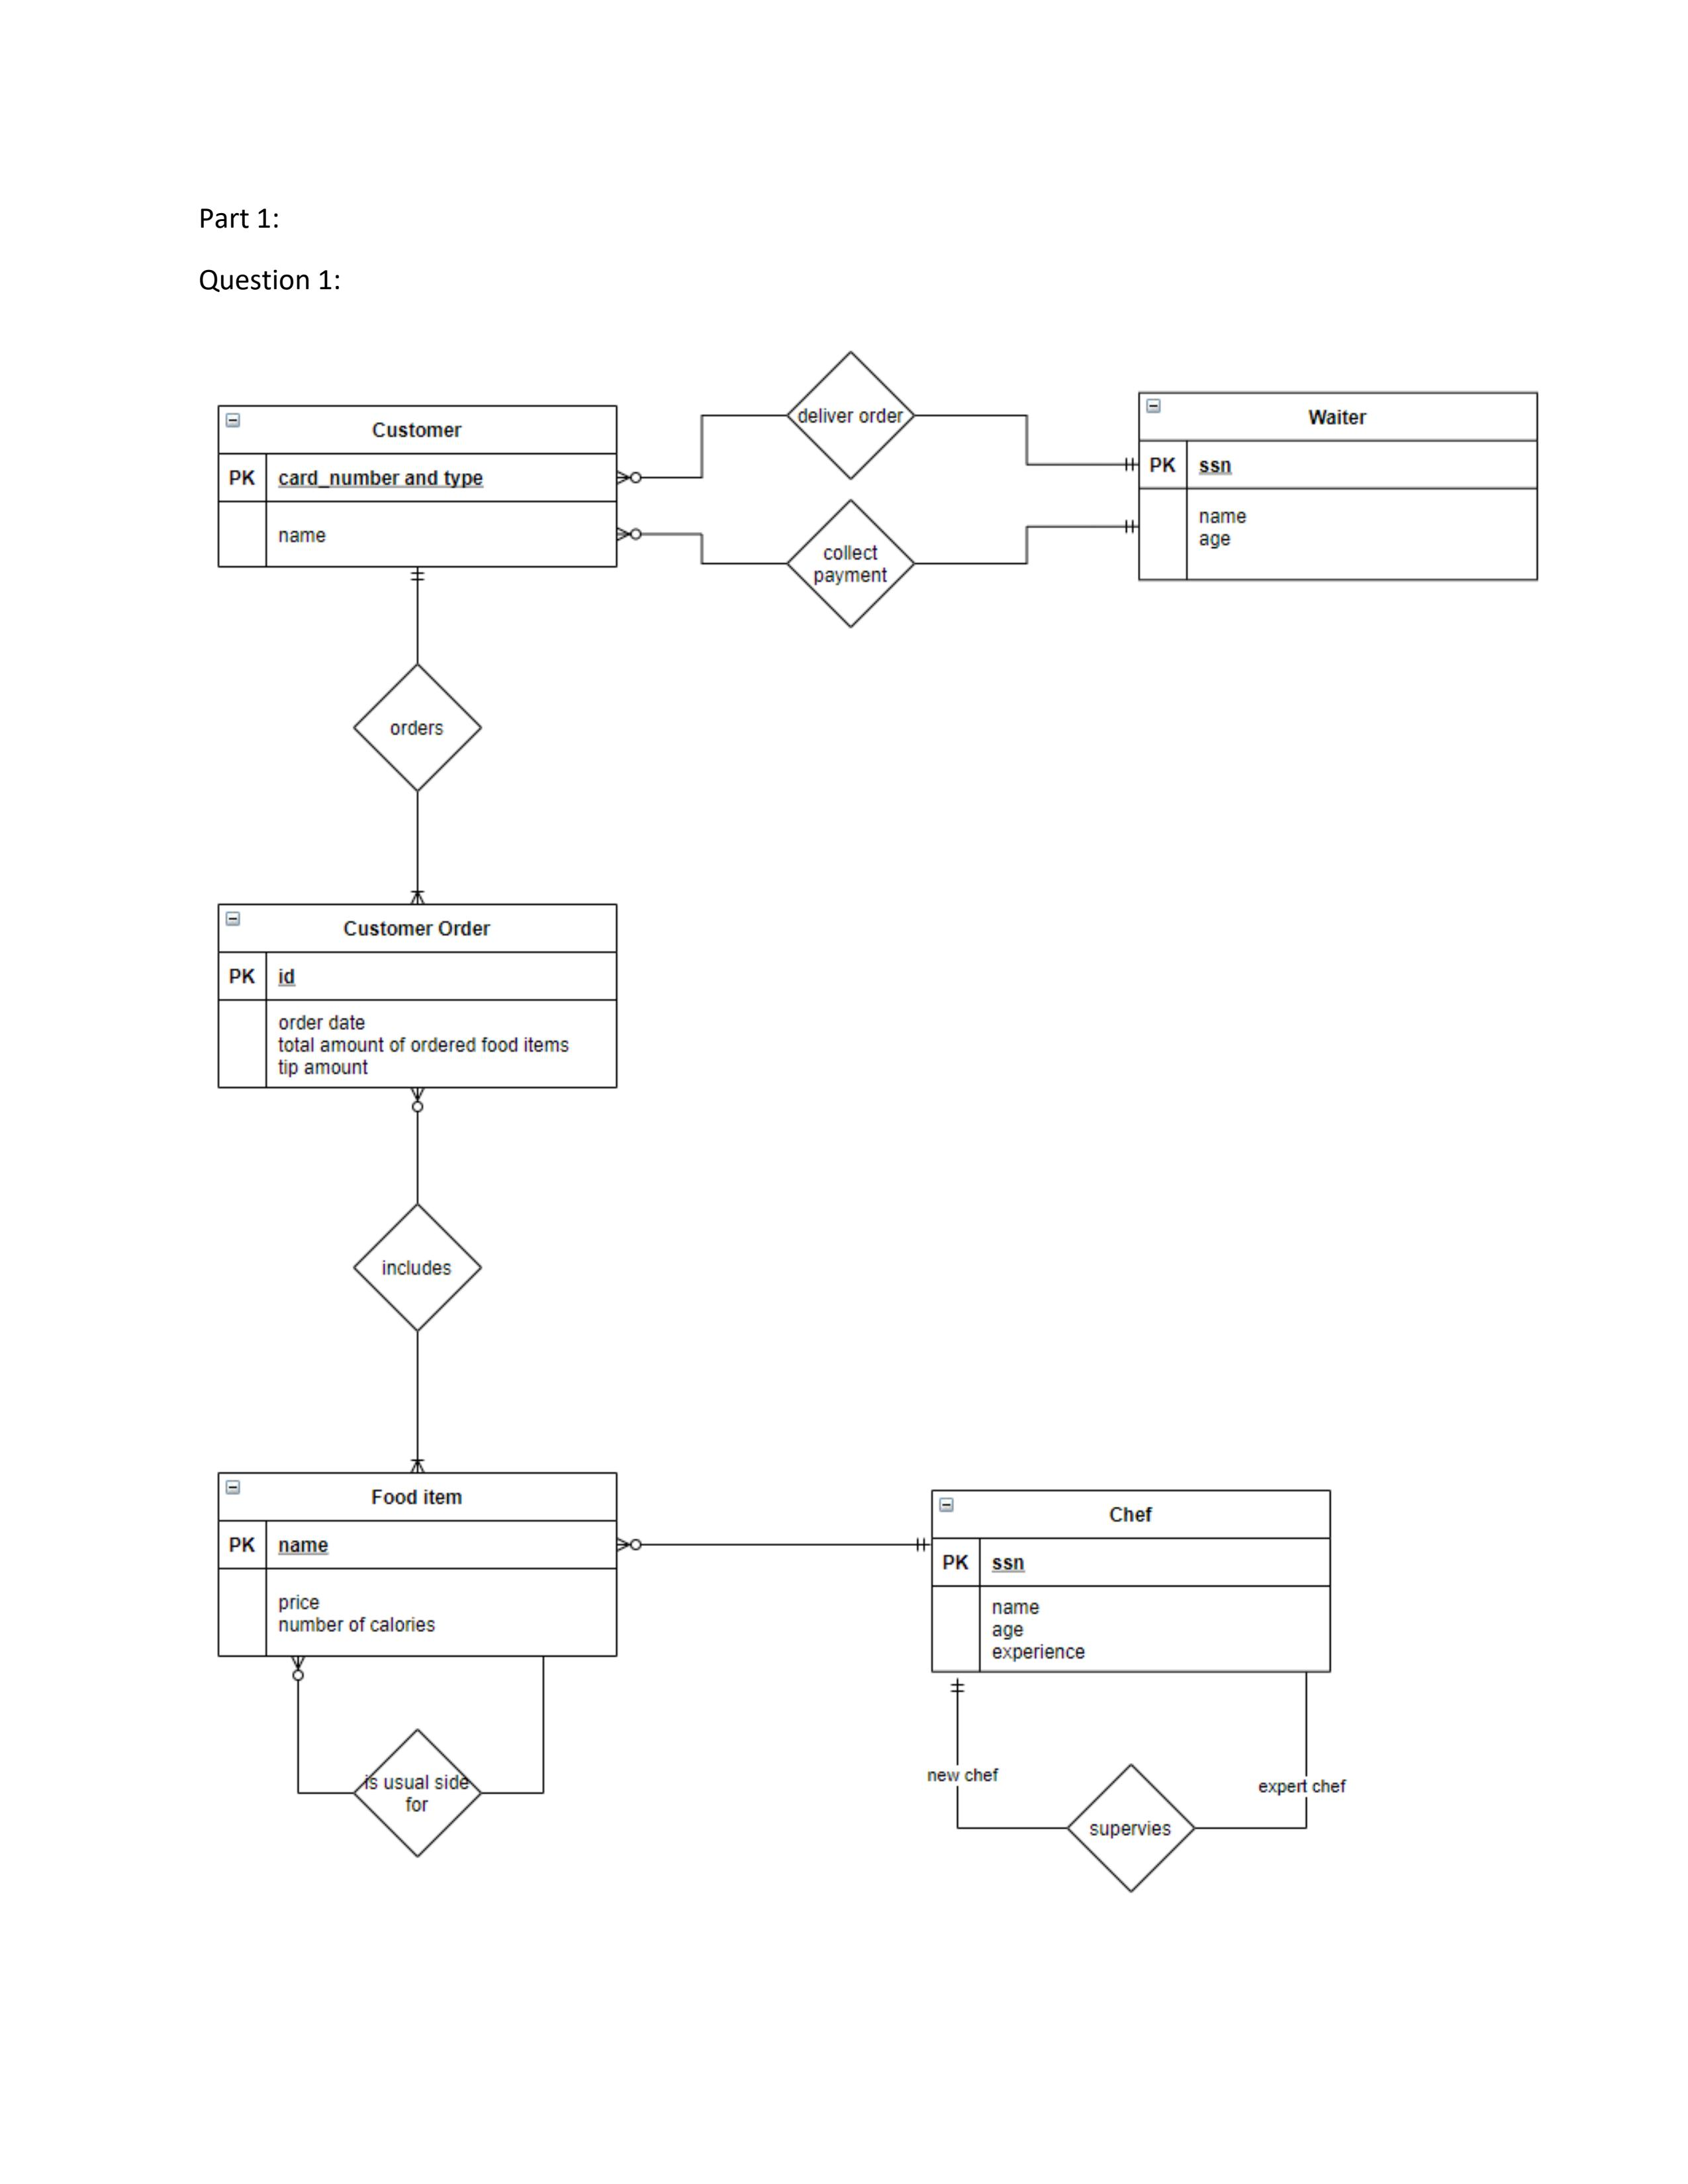Entity: (1137, 390, 1541, 583), (216, 902, 621, 1092), (216, 1470, 619, 1659), (929, 1487, 1333, 1675), (215, 402, 619, 569)
Relationship: (351, 663, 484, 792), (1066, 1764, 1195, 1893), (353, 1205, 484, 1333), (787, 351, 915, 480), (787, 498, 915, 628), (353, 1730, 481, 1856)
